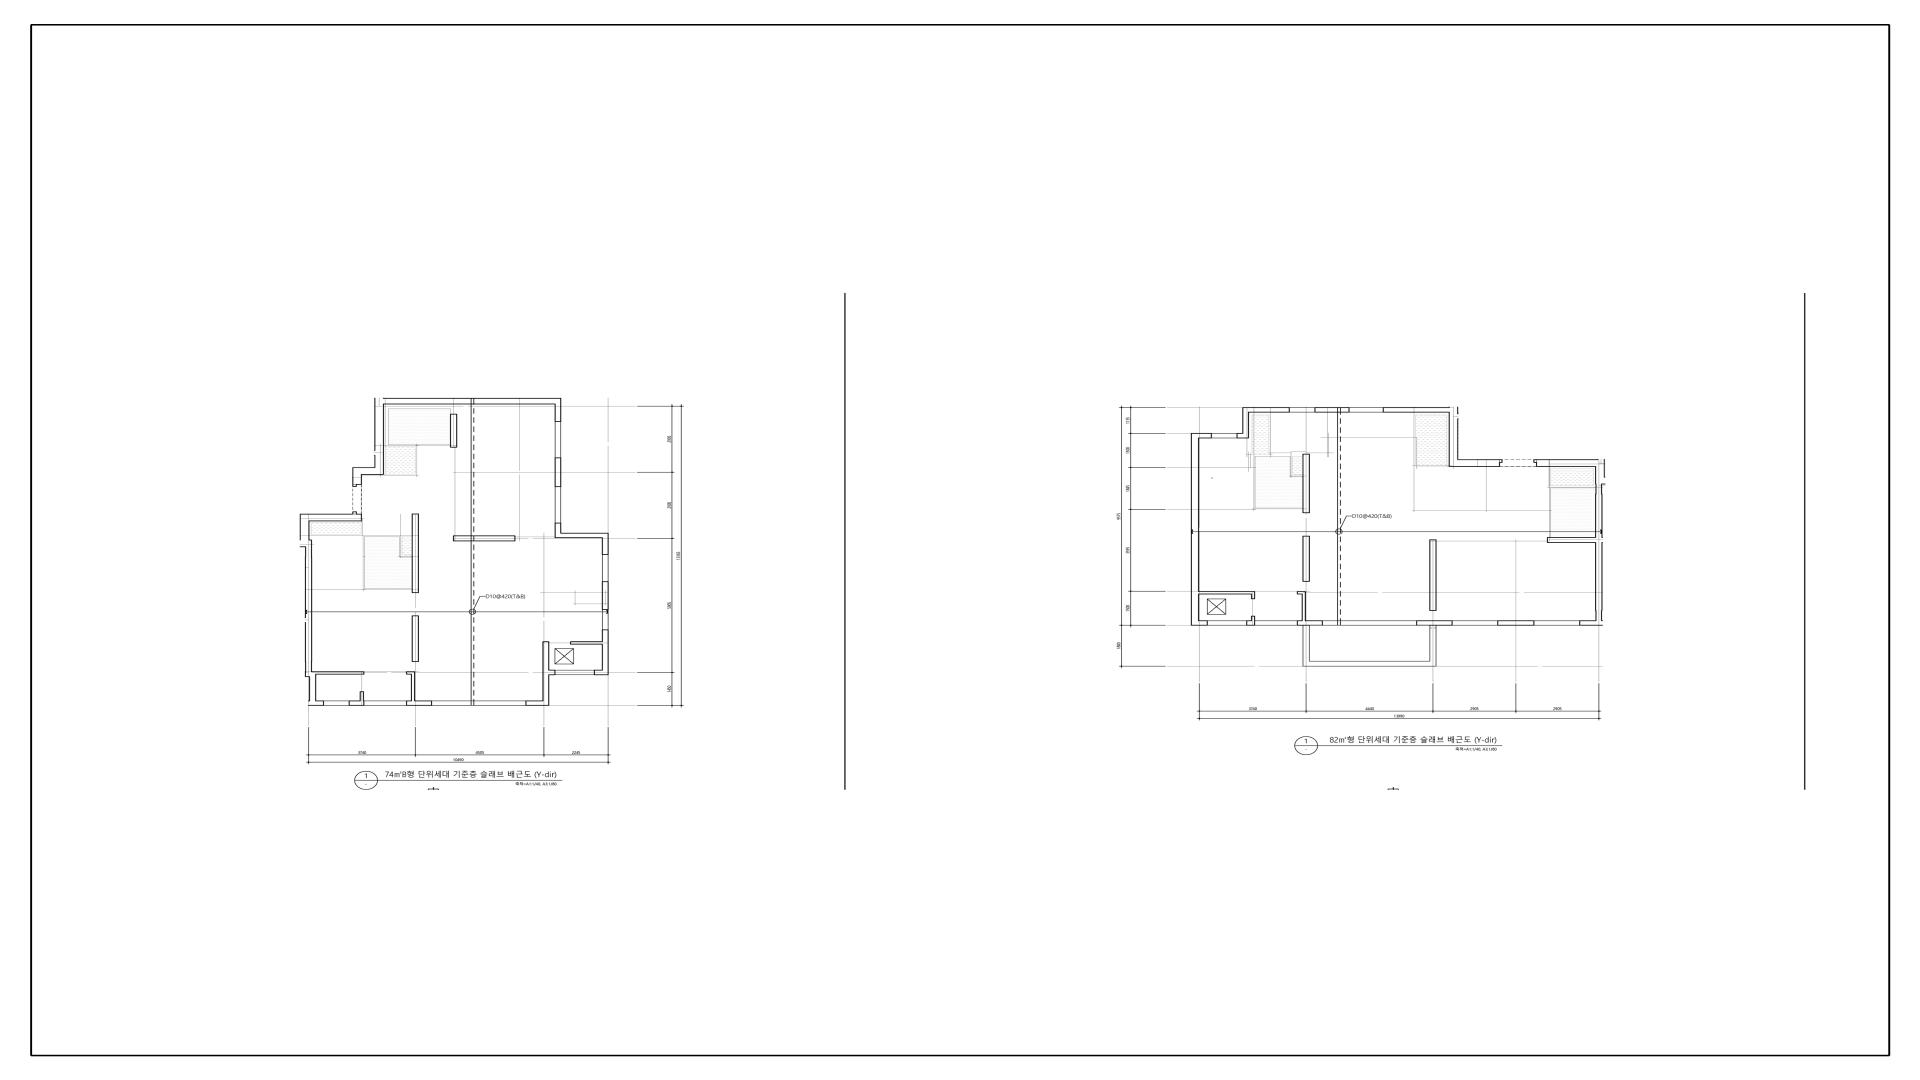wall: (1191, 438, 1199, 621), (1595, 485, 1603, 620), (384, 398, 561, 404), (305, 547, 312, 671), (374, 398, 384, 467), (1429, 540, 1437, 611), (412, 514, 419, 593), (1536, 459, 1605, 467), (1449, 413, 1458, 467), (1383, 407, 1458, 413), (1303, 454, 1310, 513), (453, 535, 515, 541), (1302, 536, 1310, 582), (310, 514, 362, 521), (543, 641, 549, 701), (1458, 459, 1500, 467), (412, 616, 419, 662), (1547, 537, 1595, 543), (602, 629, 609, 670), (300, 514, 310, 540), (1249, 407, 1290, 413), (561, 533, 609, 538), (450, 414, 457, 448), (1497, 620, 1535, 626), (1416, 620, 1453, 626), (1315, 407, 1350, 413), (1199, 591, 1251, 595), (602, 581, 609, 610), (316, 671, 364, 675), (1242, 407, 1249, 433), (352, 467, 362, 485), (555, 457, 561, 487), (362, 467, 384, 475), (1595, 467, 1605, 484), (309, 677, 316, 701), (1297, 620, 1323, 626), (1579, 620, 1603, 626), (406, 701, 432, 706), (570, 641, 602, 645), (1191, 433, 1212, 439), (602, 538, 609, 555), (526, 701, 549, 706), (555, 404, 561, 422), (411, 675, 415, 701), (1302, 595, 1306, 620), (555, 523, 561, 538), (1191, 621, 1208, 626), (300, 540, 312, 547), (308, 701, 324, 706), (594, 670, 609, 675), (349, 701, 364, 706), (305, 671, 316, 677), (1237, 433, 1249, 438), (1246, 620, 1255, 626), (360, 691, 364, 701), (406, 671, 415, 675), (1297, 591, 1306, 595), (549, 670, 556, 675), (1251, 591, 1255, 599), (1251, 616, 1255, 620), (1500, 459, 1503, 463), (1533, 459, 1536, 463), (352, 512, 357, 514), (352, 485, 357, 487)
